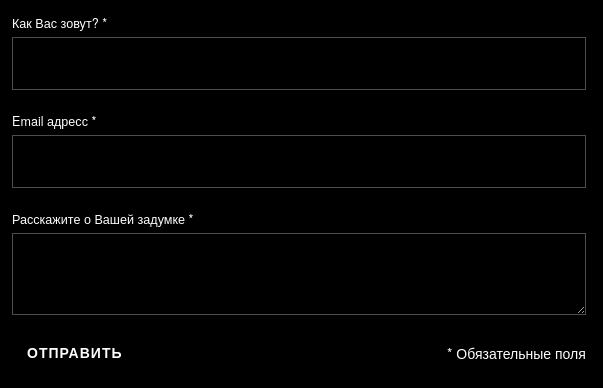
Тестирование компонента ContactsForm › Валидация компонента [все поля пустые]
This screenshot has width=603, height=388.
Click the submit button. click: click(75, 353)
box: [12, 335, 138, 371]
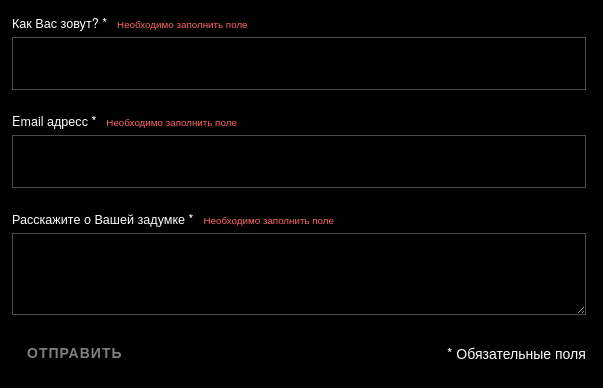
Now the text "Необходимо заполнить поле" is shown 3 times, box [117, 17, 248, 31]; [106, 115, 237, 129]; [204, 213, 334, 227]
